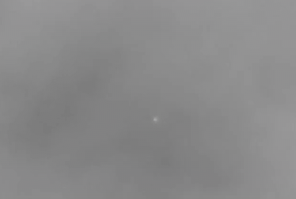Target: (154, 117, 156, 120)
